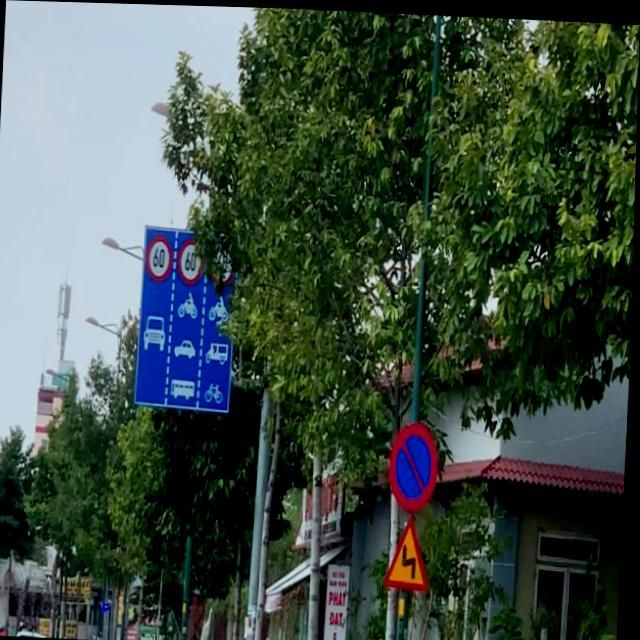Cam do xe: (389, 419, 442, 510)
Nhieu cho ngoat lien tiep ben trai: (386, 510, 435, 588)
Toc do toi da cho phep: (178, 236, 206, 284), (146, 234, 174, 282)
